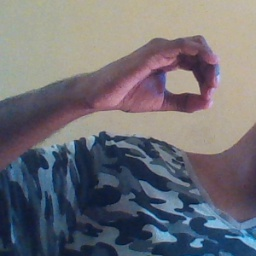O: (96, 30, 221, 120)
